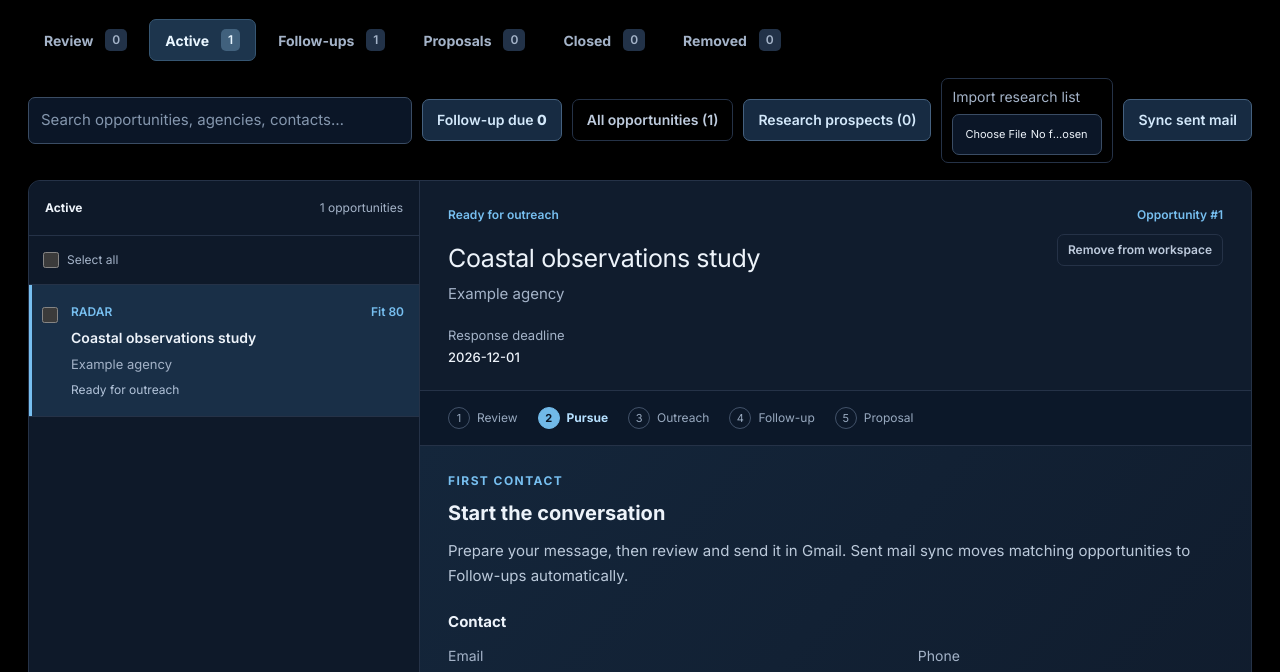
opportunity workspace user journeys › keeps the opportunity visible when saving a contact changes its search match
Expected: the heading "Coastal observations study" is shown, [448,242,760,272]
Type "contact@example.org" into the search field at (220, 120), box [28,97,412,144]
(page scrolled)
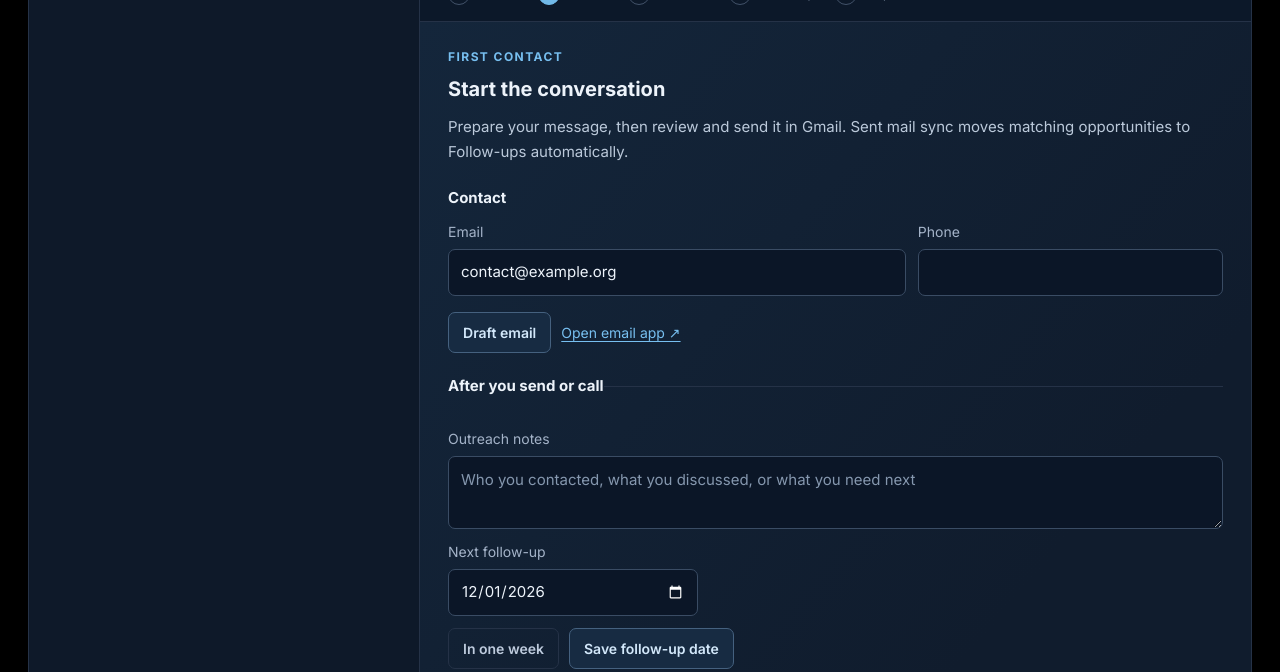
Replace the text in the field labelled "Email" with "corrected@example.org" at (677, 273), box [448,249,906,296]
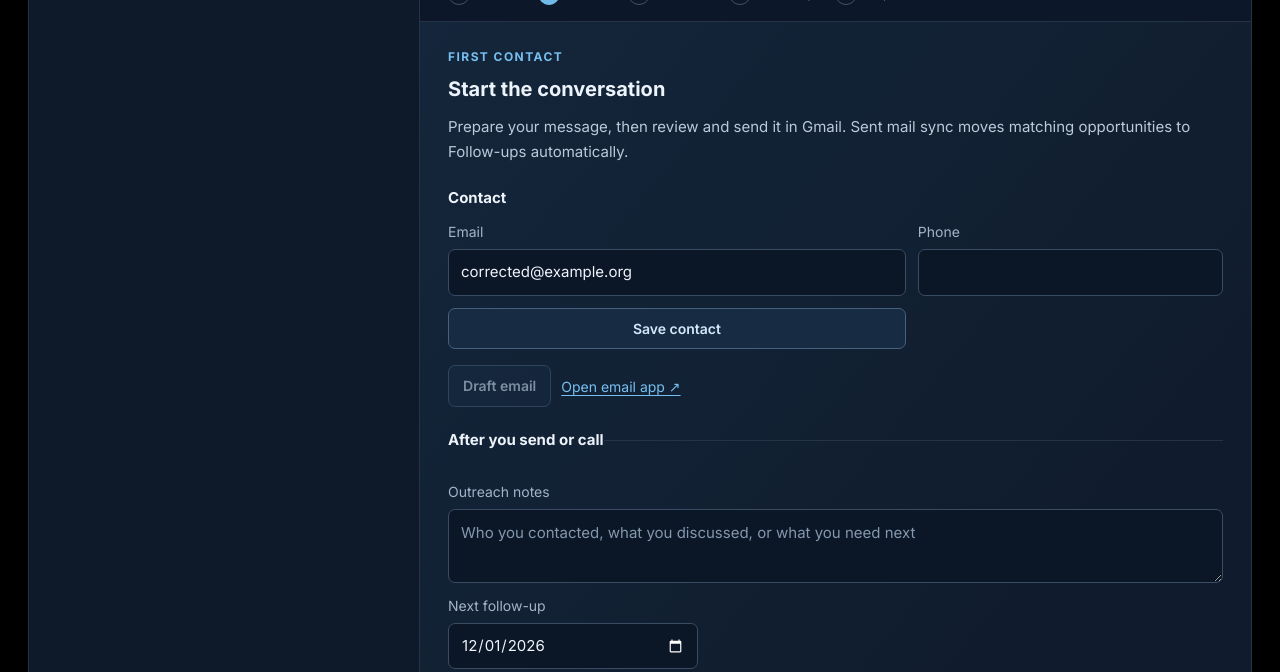
Click the button "Save contact" at (677, 329), box [448,308,906,349]
(page scrolled)
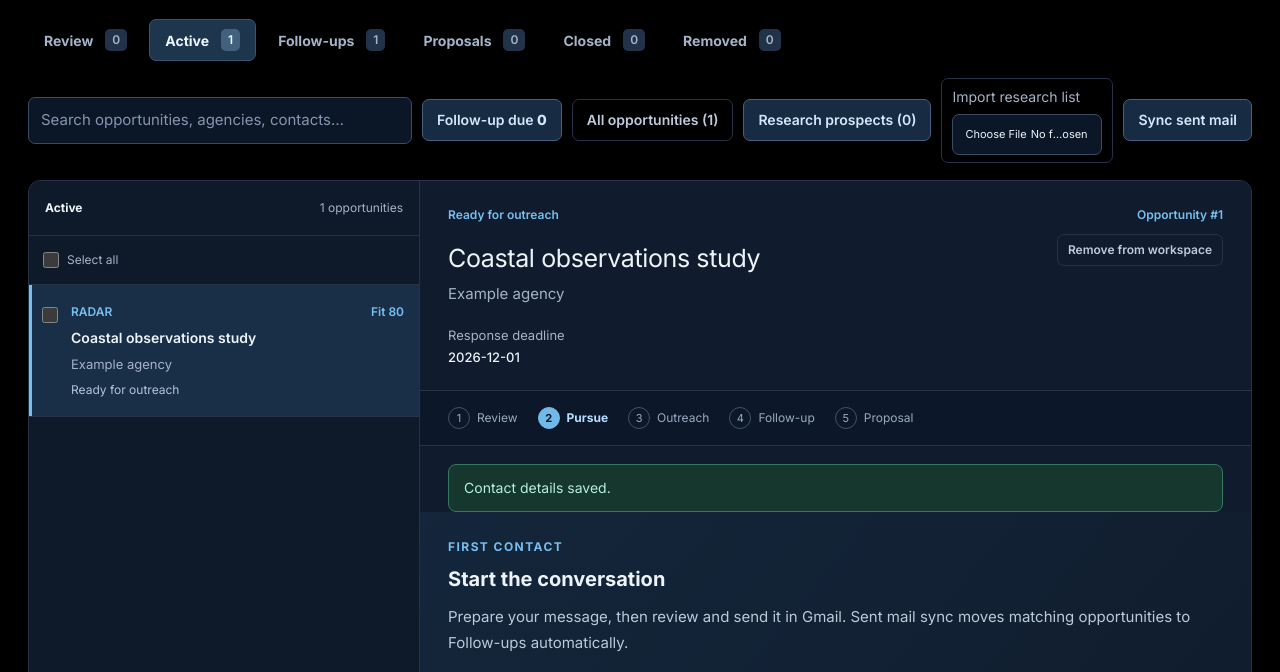
Expected: the heading "Coastal observations study" is shown, [448,242,760,272]
Expected: the text "Contact details saved." is shown, [448,464,1223,512]
Expected: the search field is empty, [28,97,412,144]
